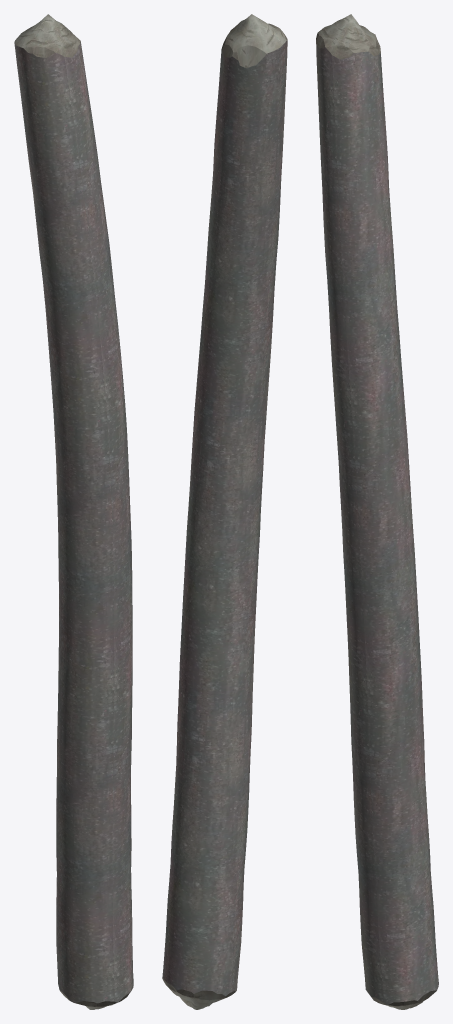
The picture shows the model from 3 angles, left to right: view 1: azimuth 30°, elevation 25°; view 2: azimuth 150°, elevation 25°; view 3: azimuth 330°, elevation 25°; orthographic projection. The views are drawn at different scales.
Parts seen in each view (by area): view 1: SM_GF_Ash_Tree_01_tree_quarters_top_LOD0; view 2: SM_GF_Ash_Tree_01_tree_quarters_top_LOD0; view 3: SM_GF_Ash_Tree_01_tree_quarters_top_LOD0.
Part boxes in pixels (box(x1,y1,x2,y2)): SM_GF_Ash_Tree_01_tree_quarters_top_LOD0: box(14, 14, 133, 1009); SM_GF_Ash_Tree_01_tree_quarters_top_LOD0: box(162, 14, 287, 1009); SM_GF_Ash_Tree_01_tree_quarters_top_LOD0: box(316, 14, 438, 1009).
Bounding box in the file's own units: 0.8063 × 6.88 × 0.6161.
1 material, 1 textured.
